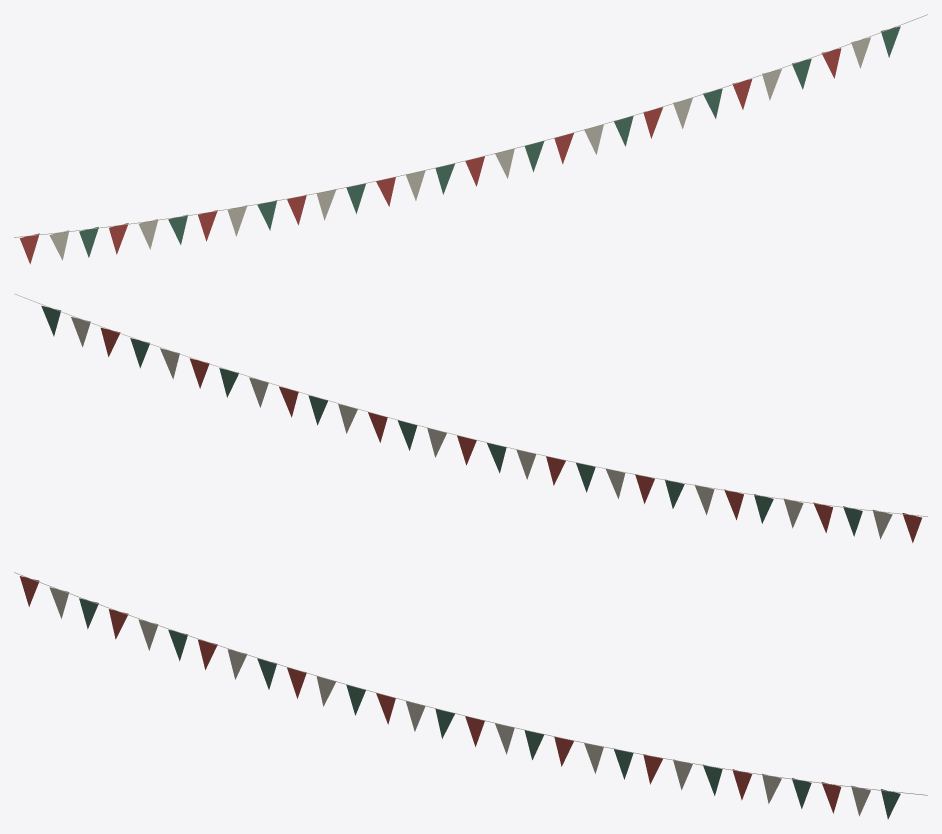
The model's file is festival_bunting_a.glb.
3 renders of one model, top to bottom at view 1: azimuth 30°, elevation 25°; view 2: azimuth 150°, elevation 25°; view 3: azimuth 330°, elevation 25°, orthographic.
Visible parts, largest first — view 1: body; view 2: body; view 3: body.
Boxes of the visible parts, x1,y1,x2,y2 form: body: (14, 14, 927, 264); body: (14, 293, 927, 542); body: (14, 572, 927, 819).
Bounding box in the file's own units: 10 × 0.6534 × 0.014.
